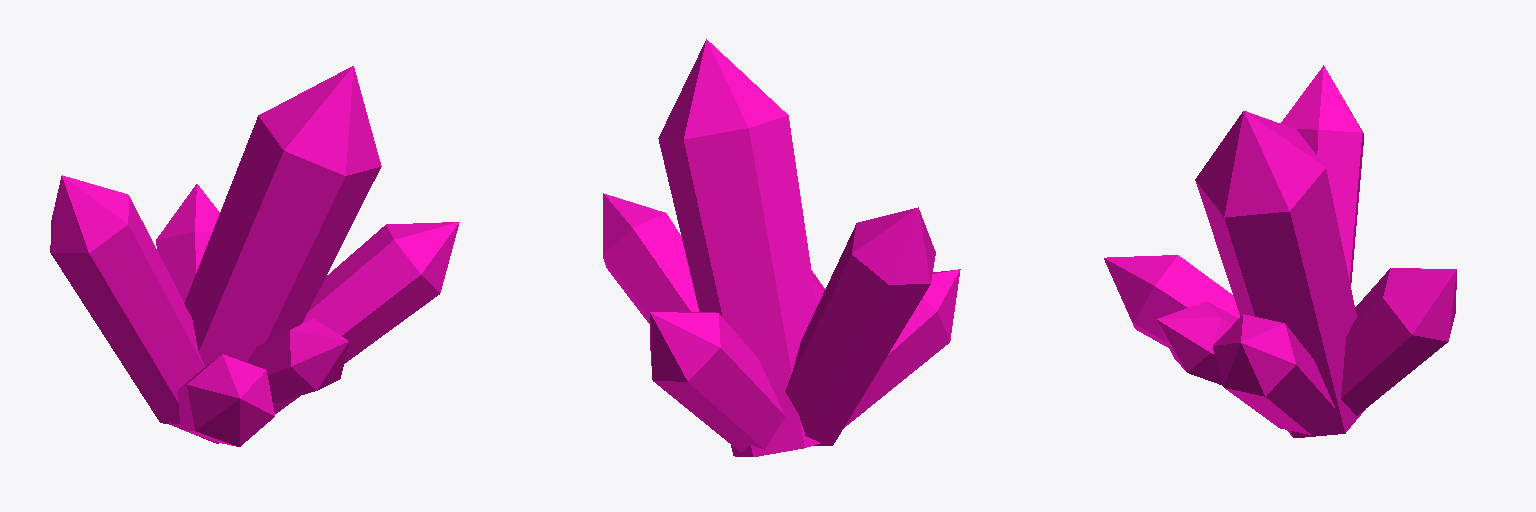
Rendered from crystals.obj.
The picture shows the model from 3 angles: view 1: azimuth 30°, elevation 25°; view 2: azimuth 150°, elevation 25°; view 3: azimuth 270°, elevation 25°; orthographic projection.
Visible parts, largest first — view 1: Cylinder.051_Cylinder.001, Cylinder.050_Cylinder.001, Cylinder.049_Cylinder.001, Cylinder.047_Cylinder.001, Cylinder.046_Cylinder.001, Cylinder.048_Cylinder.001; view 2: Cylinder.051_Cylinder.001, Cylinder.050_Cylinder.001, Cylinder.048_Cylinder.001, Cylinder.049_Cylinder.001, Cylinder.047_Cylinder.001; view 3: Cylinder.051_Cylinder.001, Cylinder.048_Cylinder.001, Cylinder.049_Cylinder.001, Cylinder.050_Cylinder.001, Cylinder.047_Cylinder.001, Cylinder.046_Cylinder.001.
Part boxes in pixels (x1,y1,x2,y2): Cylinder.051_Cylinder.001: (167, 66, 381, 443); Cylinder.050_Cylinder.001: (50, 175, 204, 423); Cylinder.049_Cylinder.001: (273, 222, 459, 413); Cylinder.047_Cylinder.001: (177, 354, 274, 446); Cylinder.046_Cylinder.001: (247, 318, 348, 403); Cylinder.048_Cylinder.001: (156, 184, 219, 302); Cylinder.051_Cylinder.001: (658, 39, 819, 456); Cylinder.050_Cylinder.001: (785, 207, 935, 445); Cylinder.048_Cylinder.001: (650, 311, 784, 451); Cylinder.049_Cylinder.001: (603, 193, 698, 323); Cylinder.047_Cylinder.001: (844, 269, 960, 427); Cylinder.051_Cylinder.001: (1195, 111, 1365, 437); Cylinder.048_Cylinder.001: (1341, 268, 1456, 415); Cylinder.049_Cylinder.001: (1213, 314, 1334, 434); Cylinder.050_Cylinder.001: (1280, 65, 1363, 284); Cylinder.047_Cylinder.001: (1104, 255, 1239, 347); Cylinder.046_Cylinder.001: (1156, 301, 1238, 385).
Bounding box in the file's own units: 0.8217 × 0.7859 × 0.6826.